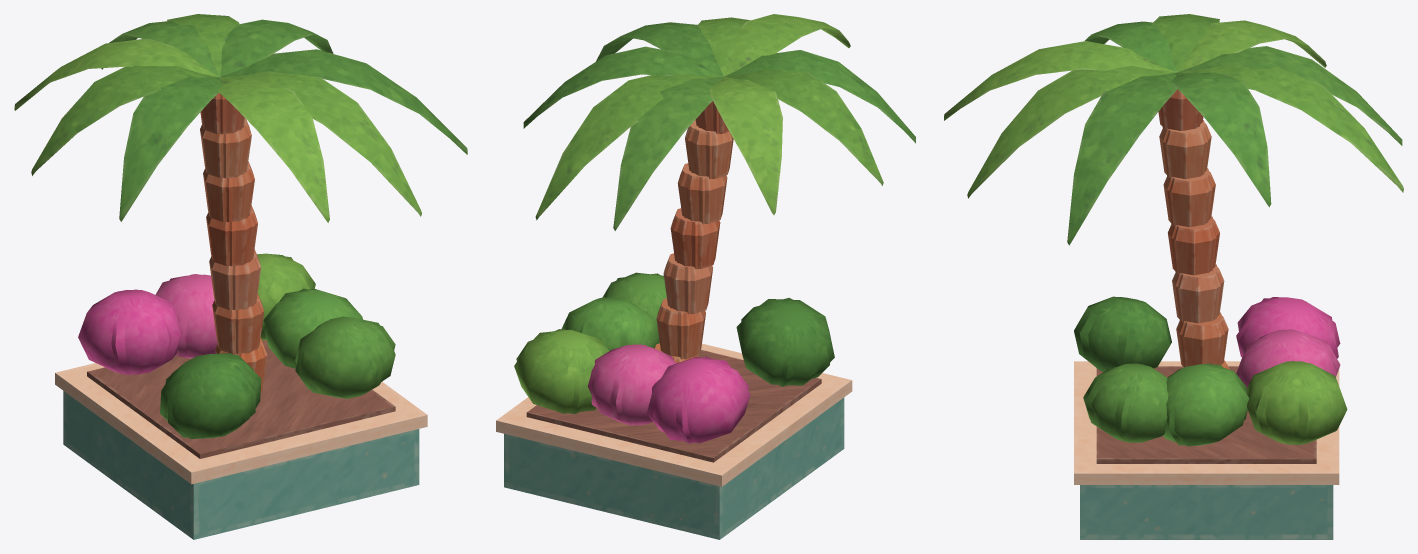
Rendered from palm_bed.bundle.fbx.
3 renders of one model, left to right at view 1: azimuth 30°, elevation 25°; view 2: azimuth 150°, elevation 25°; view 3: azimuth 270°, elevation 25°, orthographic. The views are drawn at different scales.
Parts seen in each view (by area): view 1: palm_bed, palm_bed_low, palm_bed_s02, palm_bed_s03, palm_bed_s05, palm_bed_s04; view 2: palm_bed, palm_bed_low, palm_bed_s02, palm_bed_s05, palm_bed_s07, palm_bed_s06; view 3: palm_bed, palm_bed_low, palm_bed_s04, palm_bed_s01, palm_bed_s00.
Part boxes in pixels (x1,y1,x2,y2): palm_bed: (14,14,467,526); palm_bed_low: (55,94,427,539); palm_bed_s02: (55,363,169,517); palm_bed_s03: (264,412,427,496); palm_bed_s05: (150,437,276,539); palm_bed_s04: (372,382,427,485); palm_bed: (498,14,915,536); palm_bed_low: (496,101,852,539); palm_bed_s02: (686,409,815,538); palm_bed_s05: (810,373,851,462); palm_bed_s07: (624,455,689,530); palm_bed_s06: (535,404,636,516); palm_bed: (944,14,1403,536); palm_bed_low: (1074,107,1340,539); palm_bed_s04: (1074,464,1218,539); palm_bed_s01: (1178,472,1292,539); palm_bed_s00: (1247,472,1339,539).
Size of the model in its own units: 9.84 by 10.85 by 10.88.
Materials: 1 (1 with a texture image).
